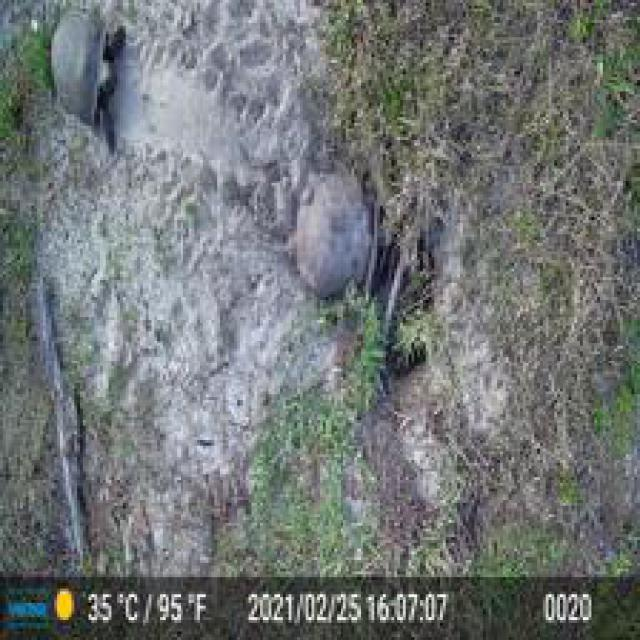tortoise: (289, 163, 380, 306), (43, 6, 128, 151)
